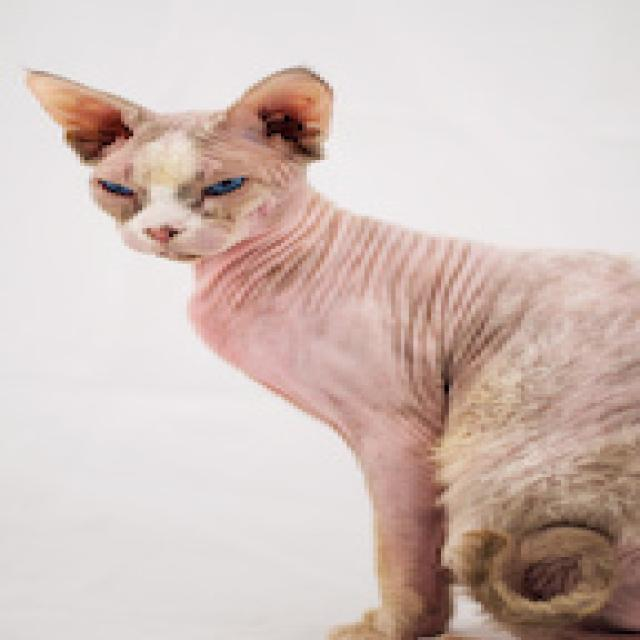Sphynx: (13, 56, 640, 640)
